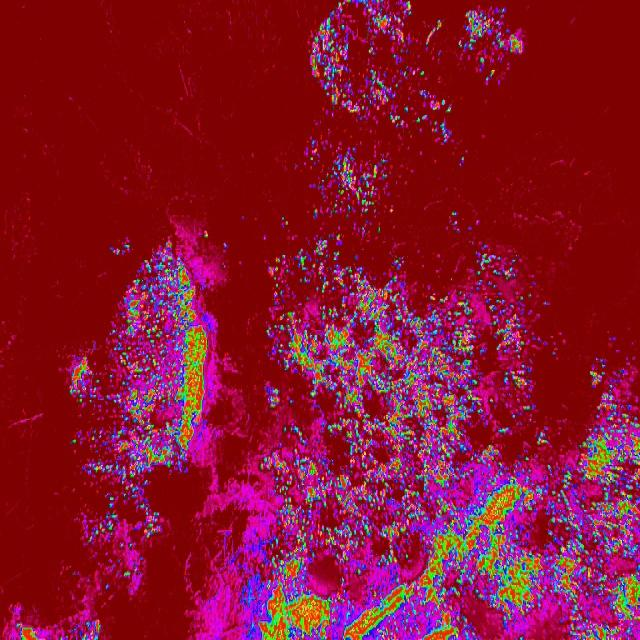fire: (264, 244, 534, 640), (119, 222, 222, 470), (66, 350, 161, 570), (585, 354, 640, 640), (311, 0, 432, 115), (534, 434, 584, 640), (302, 128, 386, 227), (214, 492, 263, 640), (462, 8, 526, 82), (7, 604, 100, 640)
